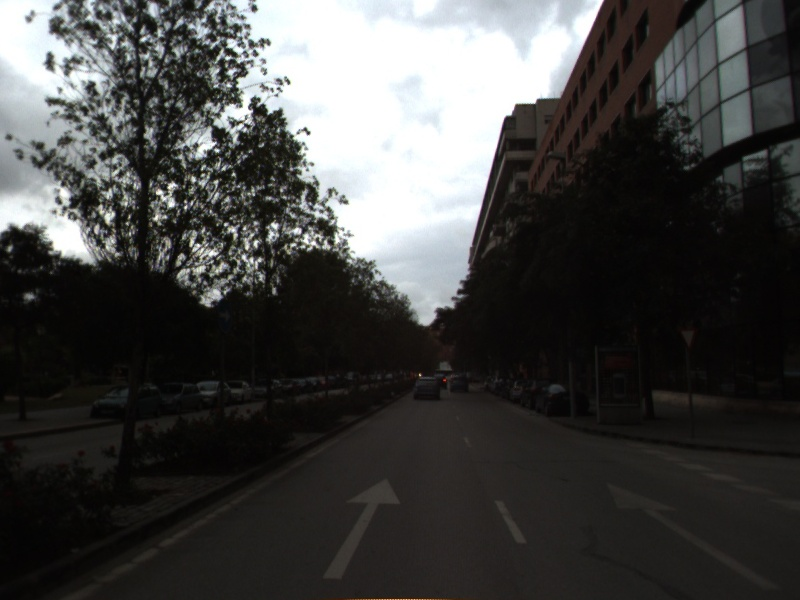STRAIGHT: (603, 479, 786, 593), (320, 475, 404, 581)
